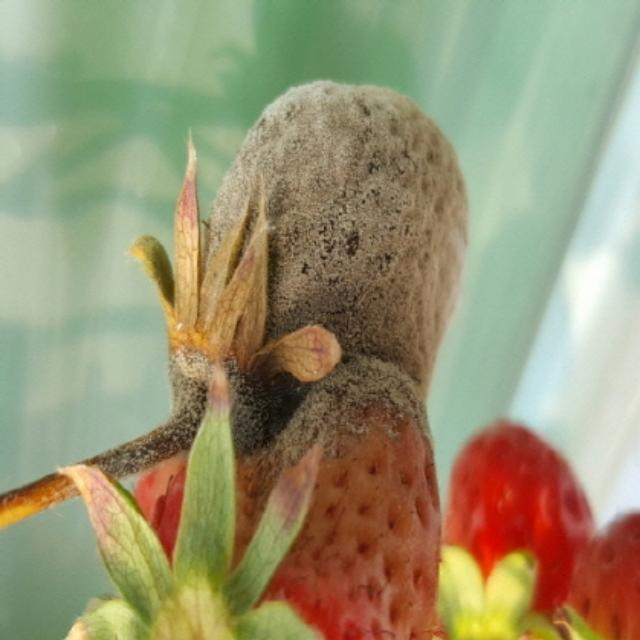Gray Mold: (87, 79, 468, 482), (232, 349, 444, 638)
